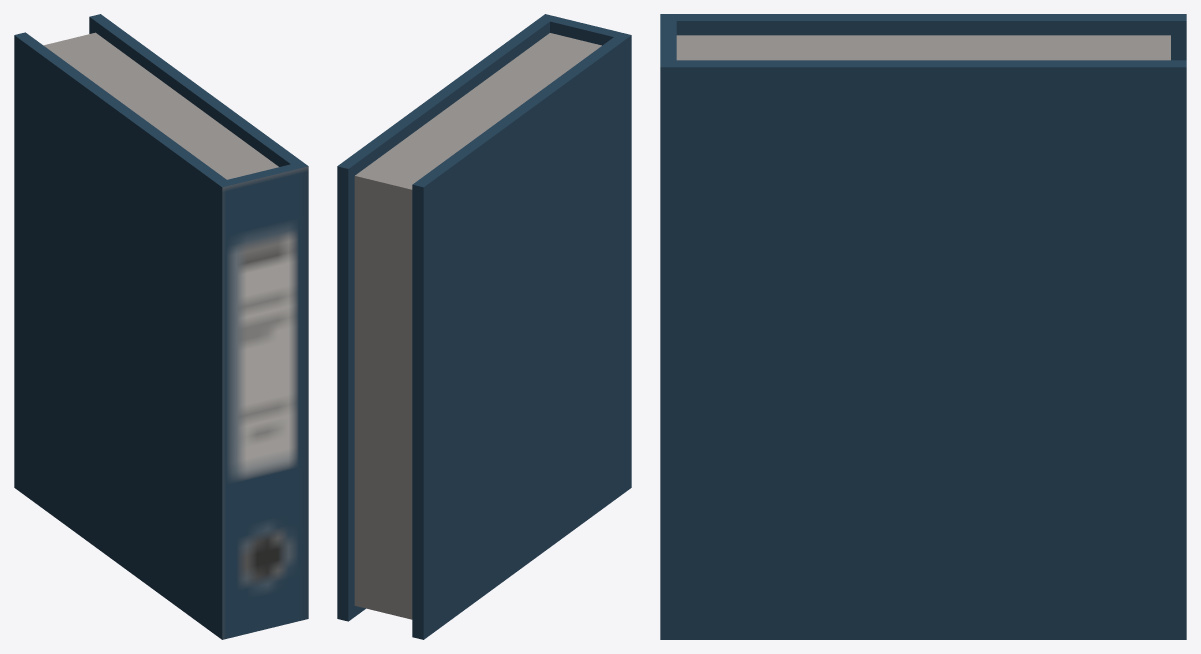
The model's file is SM_Props_Interior_Generic_Office_File_Large_01.fbx.
3 renders of one model, left to right at view 1: azimuth 30°, elevation 25°; view 2: azimuth 150°, elevation 25°; view 3: azimuth 270°, elevation 25°, orthographic. The views are drawn at different scales.
Parts seen in each view (by area): view 1: SM_Props_Interior_Generic_Office_File_Large_01; view 2: SM_Props_Interior_Generic_Office_File_Large_01; view 3: SM_Props_Interior_Generic_Office_File_Large_01.
Part boxes in pixels (box(x1,y1,x2,y2)): SM_Props_Interior_Generic_Office_File_Large_01: box(14, 14, 308, 639); SM_Props_Interior_Generic_Office_File_Large_01: box(337, 14, 631, 639); SM_Props_Interior_Generic_Office_File_Large_01: box(660, 14, 1186, 639).
Size of the model in its own units: 12 by 60 by 50.
